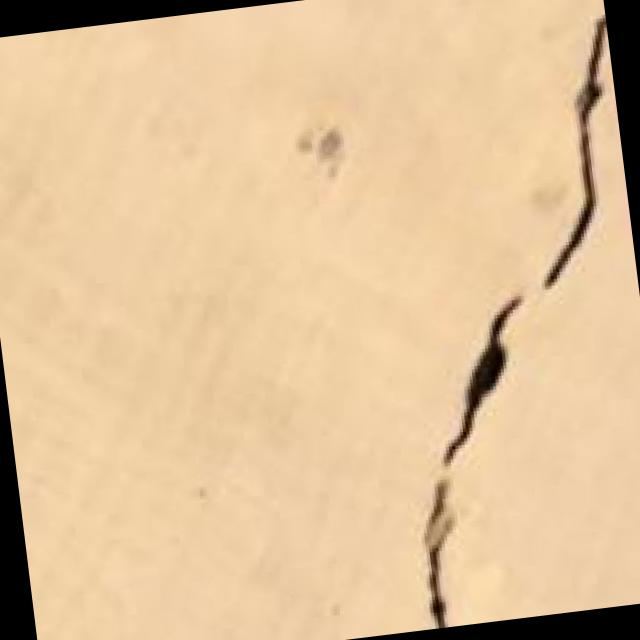crack: (315, 0, 640, 630)
